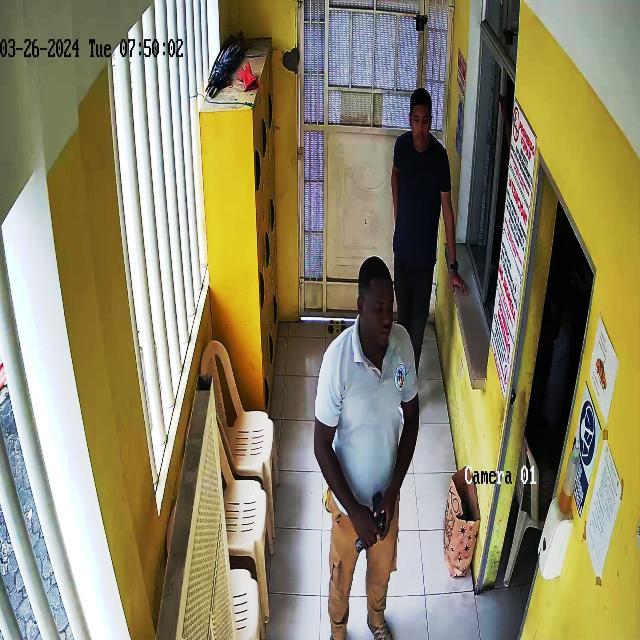Gun: (345, 481, 399, 562)
